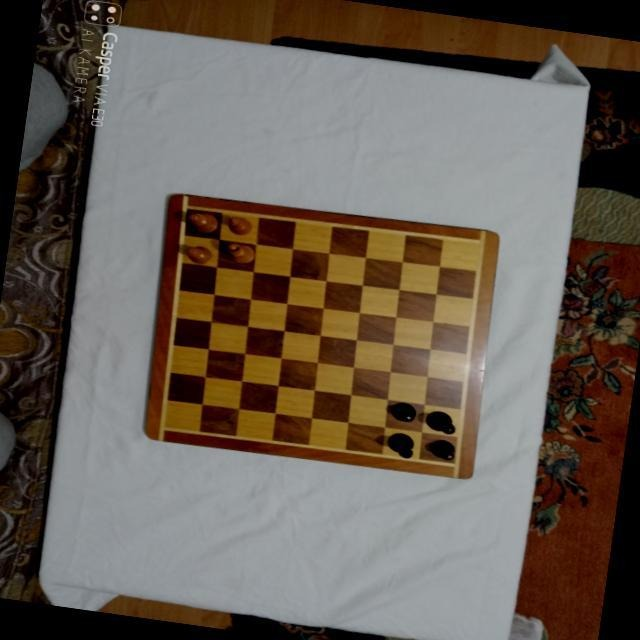black-bishop: (422, 410, 457, 436), (384, 432, 415, 460)
black-pawn: (427, 437, 457, 462), (388, 400, 417, 423)
white-bishop: (184, 209, 219, 235), (224, 242, 256, 266)
white-pawn: (183, 243, 213, 266), (225, 215, 253, 237)
